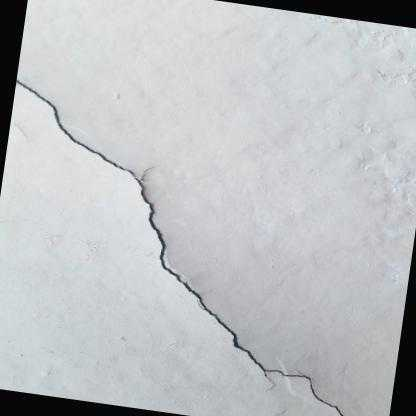crack: (16, 79, 345, 416)
